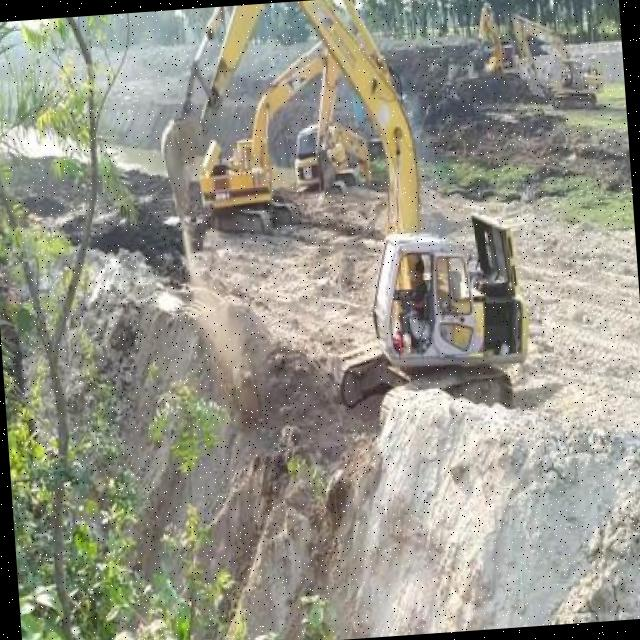Excavator: (148, 0, 534, 447), (185, 32, 352, 242), (510, 2, 608, 114), (292, 118, 374, 196), (468, 0, 514, 76)
